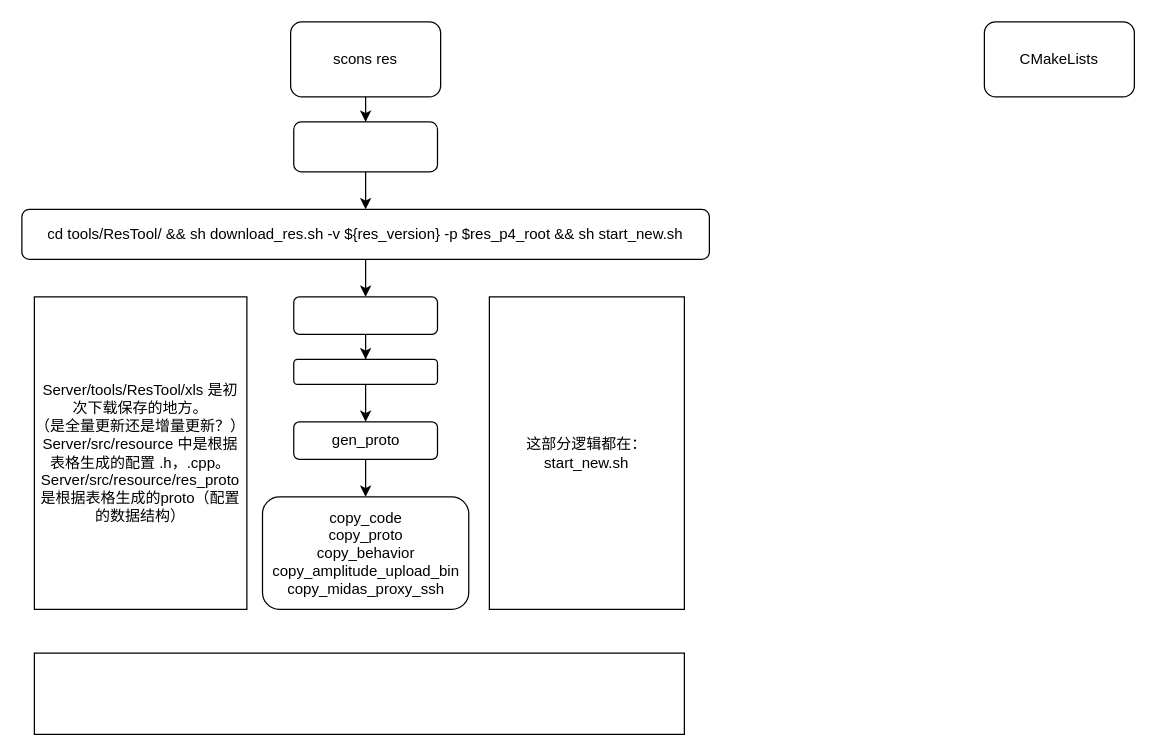
Some shapes in this 1156 by 756 pixel diagram are drawn without their labels. The centre of each missing label's shape, as x and y in pixels:
"run_generate" goes at (365,371).
"sh buil.sh:gen_res" goes at (365,146).
"拉取p4中的表格部分" goes at (365,315).
